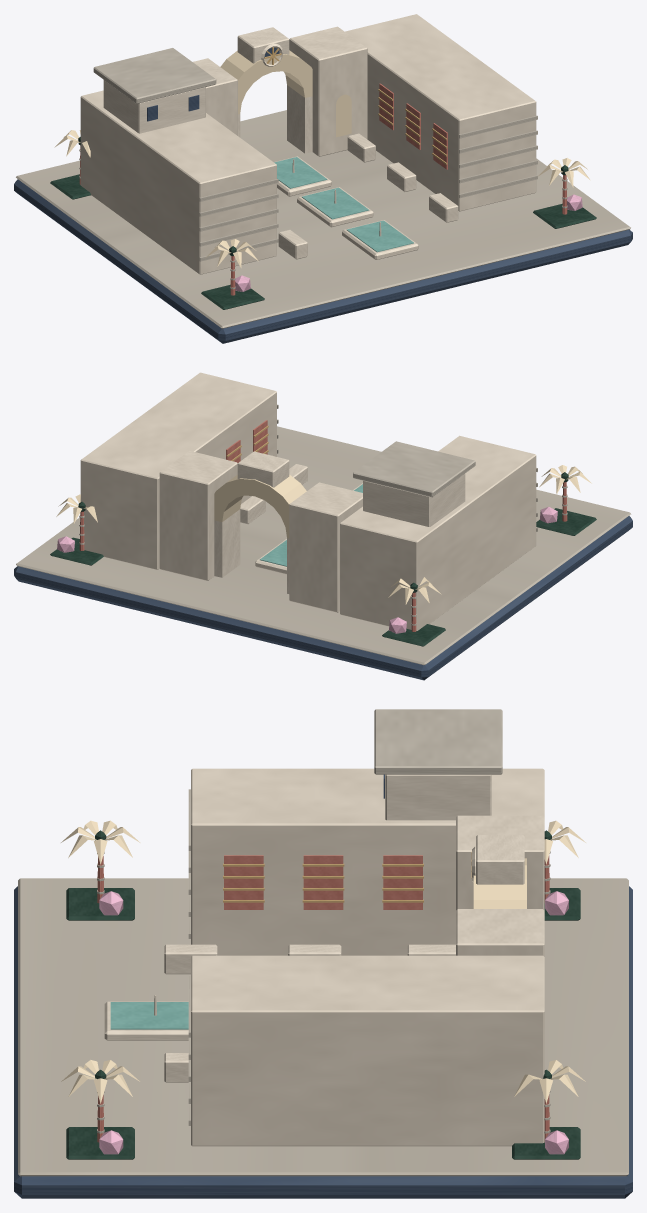
Rendered from auc-new-cairo-diorama.glb.
3 views of the same model, one above another, from view 1: azimuth 30°, elevation 25°; view 2: azimuth 150°, elevation 25°; view 3: azimuth 270°, elevation 25° (orthographic). The views are drawn at different scales.
Visible parts, largest first — view 1: auc-new-cairo; view 2: auc-new-cairo; view 3: auc-new-cairo.
Boxes of the visible parts, x1,y1,x2,y2 form: auc-new-cairo: [14, 14, 632, 343]; auc-new-cairo: [14, 372, 632, 680]; auc-new-cairo: [14, 709, 632, 1198].
Bounding box in the file's own units: 16 × 5.53 × 14.
1 material, 1 textured.
